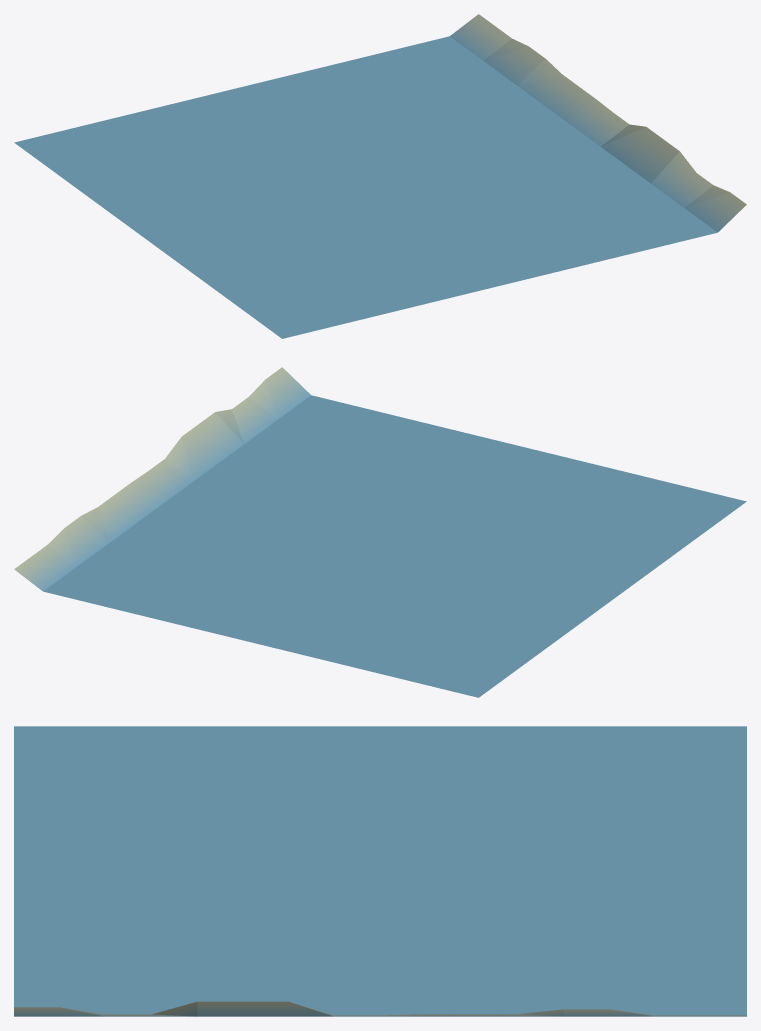
3 renders of one model, top to bottom at view 1: azimuth 30°, elevation 25°; view 2: azimuth 150°, elevation 25°; view 3: azimuth 270°, elevation 25°, orthographic. The views are drawn at different scales.
Size of the model in its own units: 32 by 1.66 by 32.
